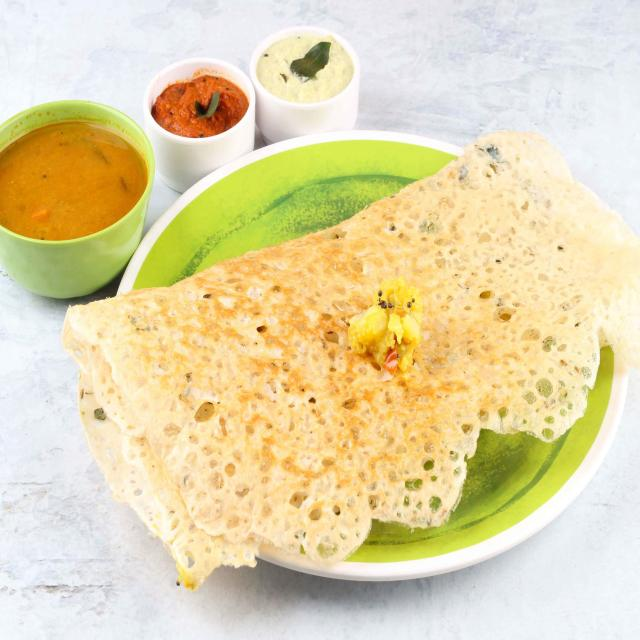DOSA: (60, 132, 640, 593)
RED CHUTNEY: (153, 72, 247, 138)
SAMBAR: (0, 119, 149, 240)
WHITE CHUTNEY: (257, 35, 352, 99)
